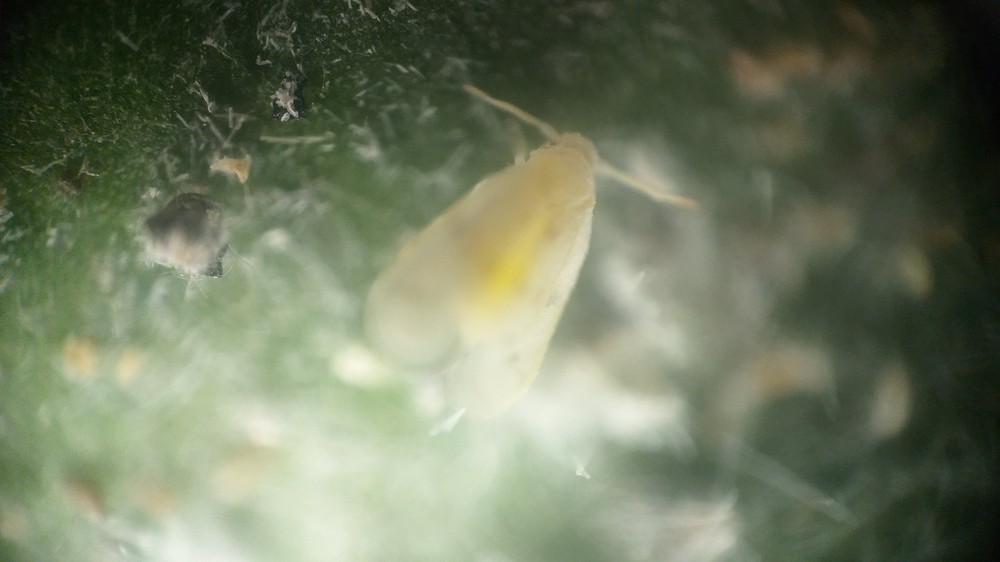Mosca Blanca: (344, 79, 736, 435)
